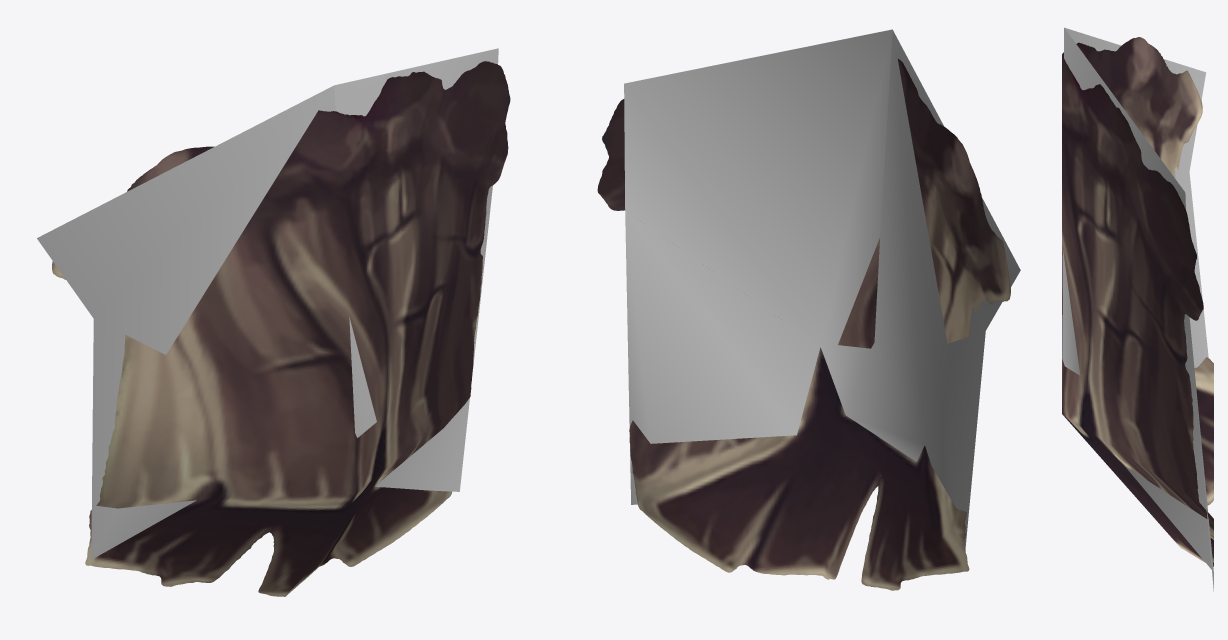
Rendered from Tree Tunnel.FBX.
The picture shows the model from 3 angles, left to right: view 1: azimuth 30°, elevation 25°; view 2: azimuth 150°, elevation 25°; view 3: azimuth 270°, elevation 25°; orthographic projection. The views are drawn at different scales.
Visible parts, largest first — view 1: Tree Tunnel, Tree Tunnel Mask; view 2: Tree Tunnel Mask, Tree Tunnel; view 3: Tree Tunnel, Tree Tunnel Mask.
Part boxes in pixels (x1,y1,x2,y2): Tree Tunnel: (52,61,510,596); Tree Tunnel Mask: (37,48,498,559); Tree Tunnel Mask: (624,29,1020,549); Tree Tunnel: (597,59,1010,590); Tree Tunnel: (1062,37,1213,566); Tree Tunnel Mask: (1062,27,1213,591).
Size of the model in its own units: 241 by 66.71 by 275.
